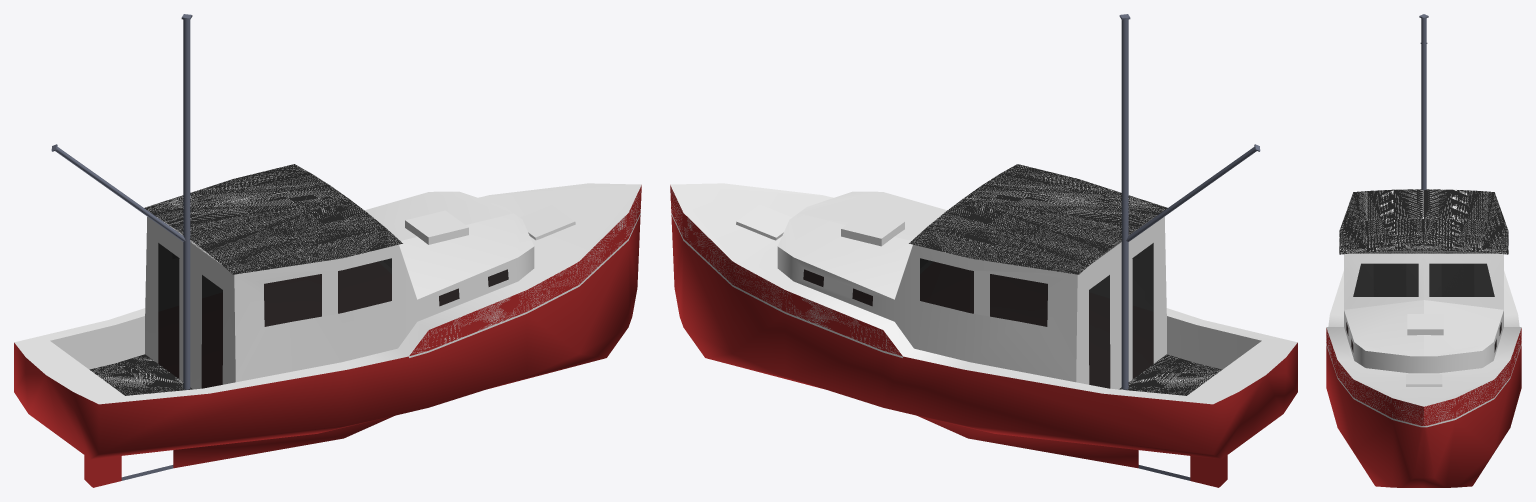
The model's file is boat.dae.
3 renders of one model, left to right at view 1: azimuth 30°, elevation 25°; view 2: azimuth 150°, elevation 25°; view 3: azimuth 270°, elevation 25°, orthographic. The views are drawn at different scales.
Visible parts, largest first — view 1: boat_half (×13), group_0 (×2), boat_hatch (×2), rudder; view 2: boat_half (×13), group_0 (×2), boat_hatch (×2), rudder; view 3: boat_half (×12), boat_hatch (×2), group_0.
Boxes of the visible parts, x1=… form: boat_half (×13): x1=14, y1=164, x2=641, y2=468; group_0 (×2): x1=55, y1=19, x2=190, y2=389; boat_hatch (×2): x1=405, y1=204, x2=575, y2=244; rudder: x1=84, y1=455, x2=121, y2=487; boat_half (×13): x1=670, y1=164, x2=1297, y2=468; group_0 (×2): x1=1121, y1=19, x2=1256, y2=389; boat_hatch (×2): x1=736, y1=204, x2=904, y2=246; rudder: x1=1190, y1=455, x2=1227, y2=487; boat_half (×12): x1=1326, y1=189, x2=1521, y2=487; boat_hatch (×2): x1=1406, y1=314, x2=1443, y2=386; group_0: x1=1421, y1=18, x2=1426, y2=190.
Bounding box in the file's own units: 339 × 124 × 250.
